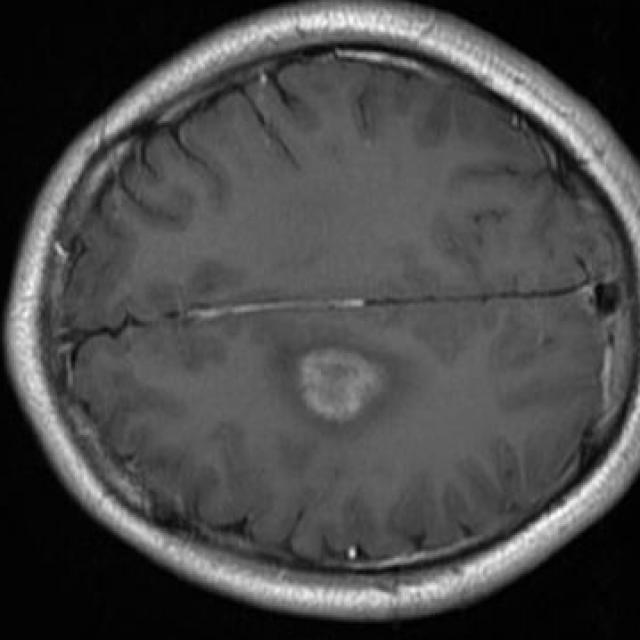glioma: (280, 346, 414, 423)
